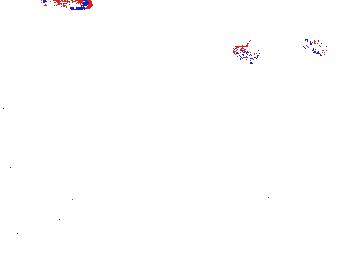glassfish: (298, 35, 346, 65)
red belly glassfish: (231, 44, 263, 62), (42, 1, 92, 12)
